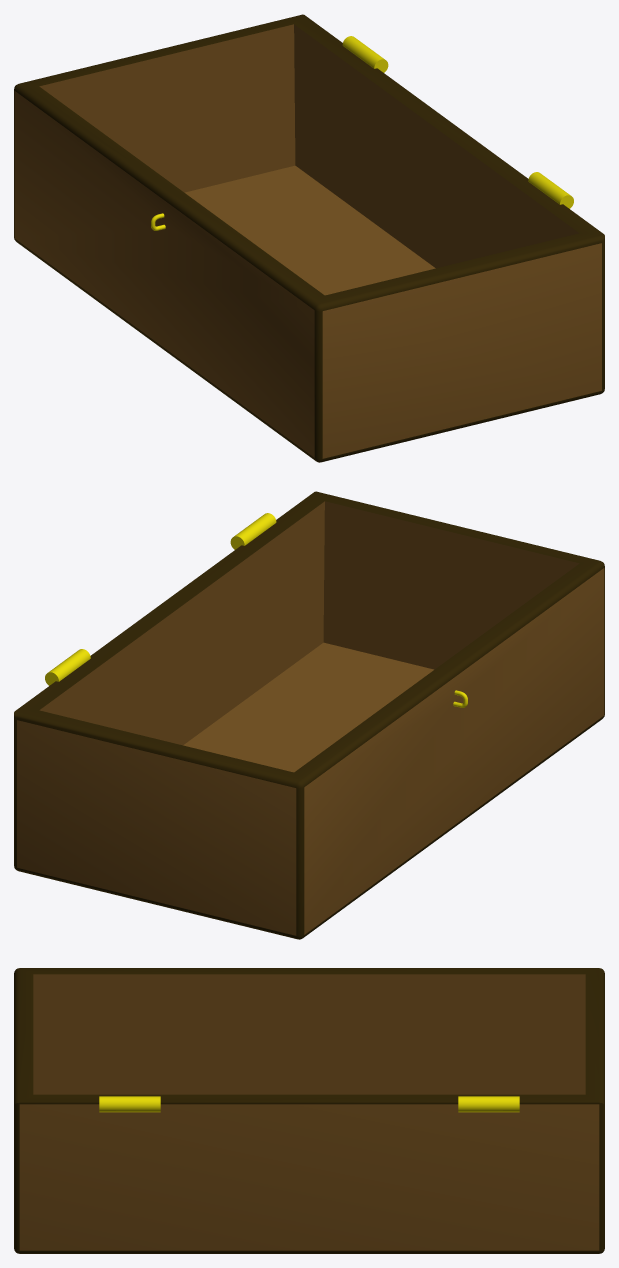
Rendered from skrzynia_dol.fbx.
3 renders of one model, top to bottom at view 1: azimuth 30°, elevation 25°; view 2: azimuth 150°, elevation 25°; view 3: azimuth 270°, elevation 25°, orthographic. The views are drawn at different scales.
Visible parts, largest first — view 1: Cube; view 2: Cube; view 3: Cube.
Part boxes in pixels (x1=…): Cube: x1=14, y1=14, x2=604, y2=462; Cube: x1=14, y1=491, x2=604, y2=939; Cube: x1=14, y1=968, x2=604, y2=1253.
Bounding box in the file's own units: 217 × 110 × 366.
